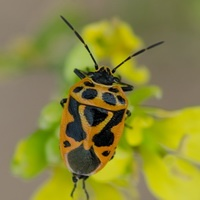insect: (60, 15, 163, 199)
